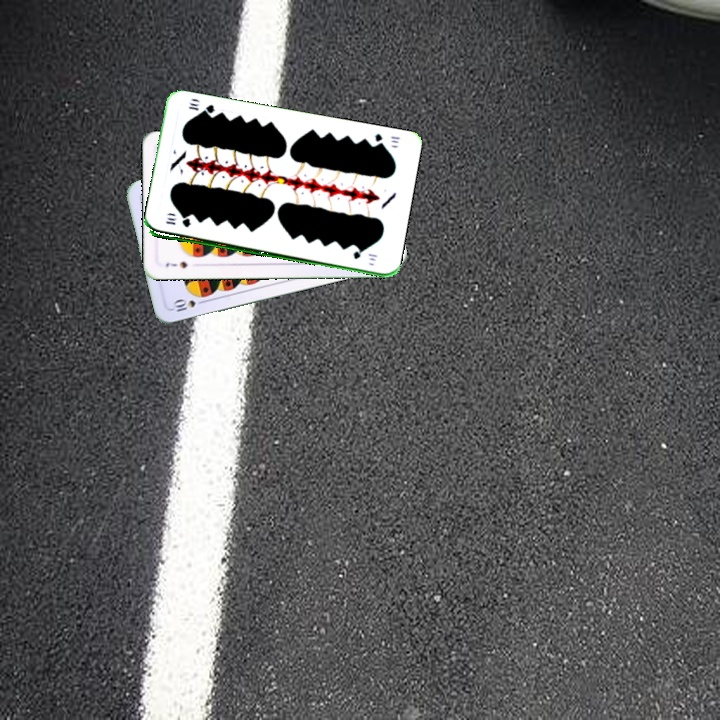G10: (371, 129, 403, 150), (162, 213, 193, 230)
S10: (168, 296, 209, 314)
S7: (162, 257, 190, 271)
